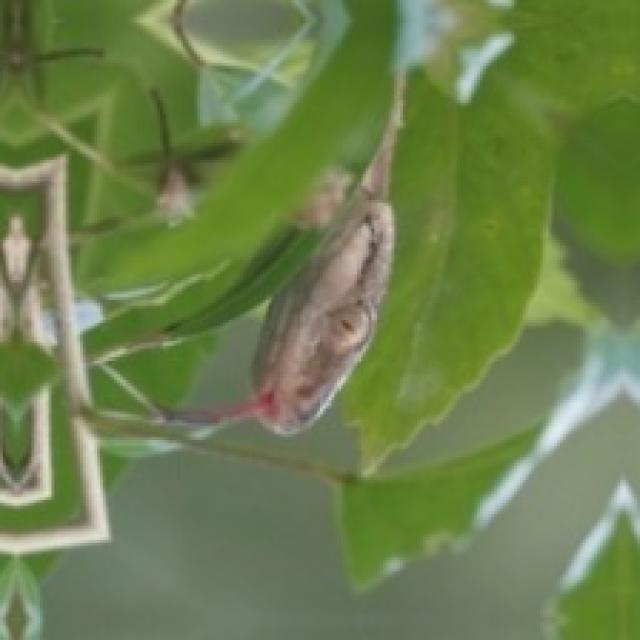dog-toothed cat snake: (160, 69, 403, 431), (240, 71, 403, 431)
